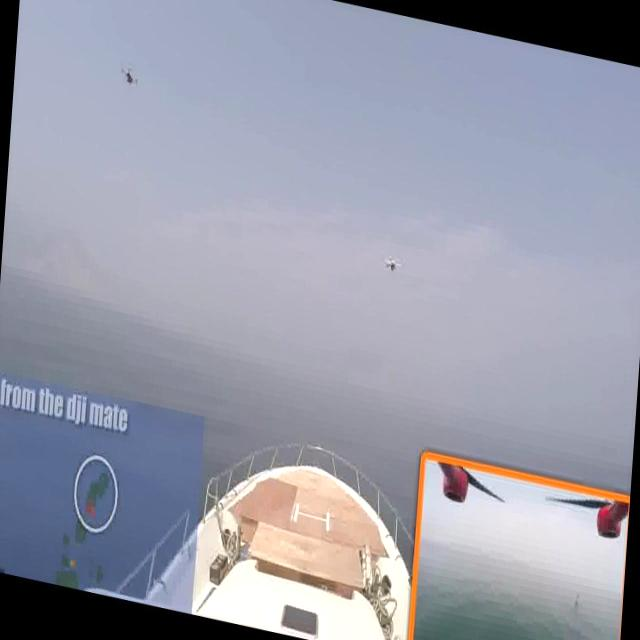drone: (380, 243, 410, 287), (118, 57, 144, 90)
